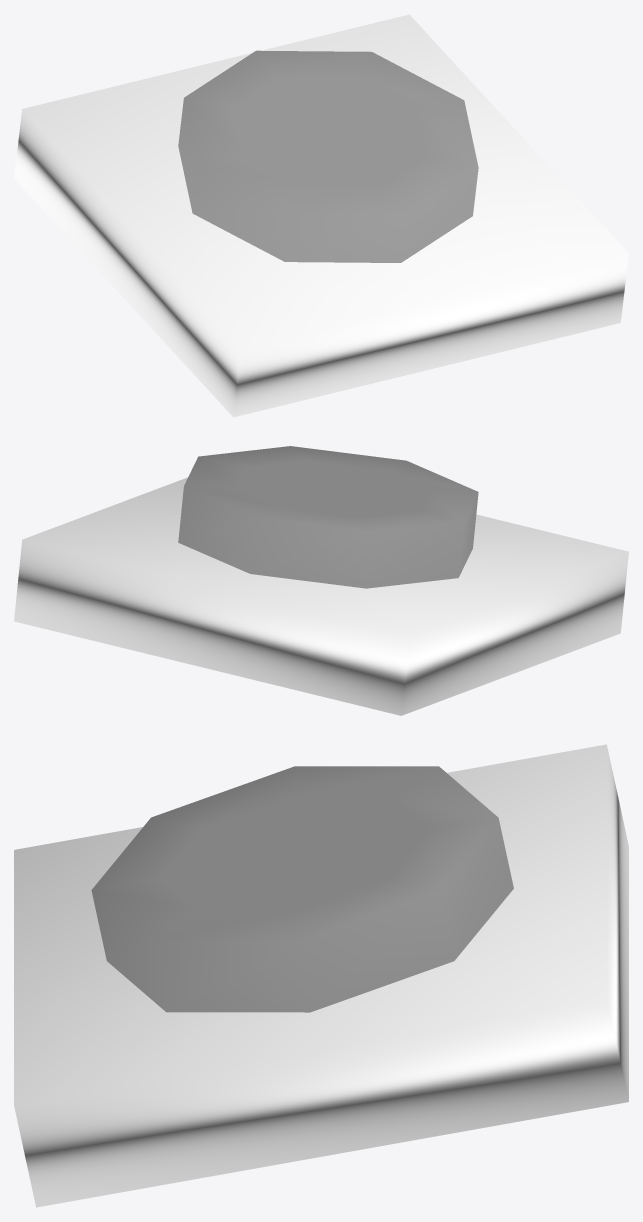
File: ButtonToFreesom.fbx
3 views of the same model, one above another, from view 1: azimuth 30°, elevation 25°; view 2: azimuth 150°, elevation 25°; view 3: azimuth 270°, elevation 25° (orthographic). The views are drawn at different scales.
Visible parts, largest first — view 1: Cube.013; view 2: Cube.013; view 3: Cube.013.
Part boxes in pixels (x1,y1,x2,y2): Cube.013: (14,14,628,417); Cube.013: (14,446,628,715); Cube.013: (14,744,628,1207).
Size of the model in its own units: 338 by 162 by 344.
